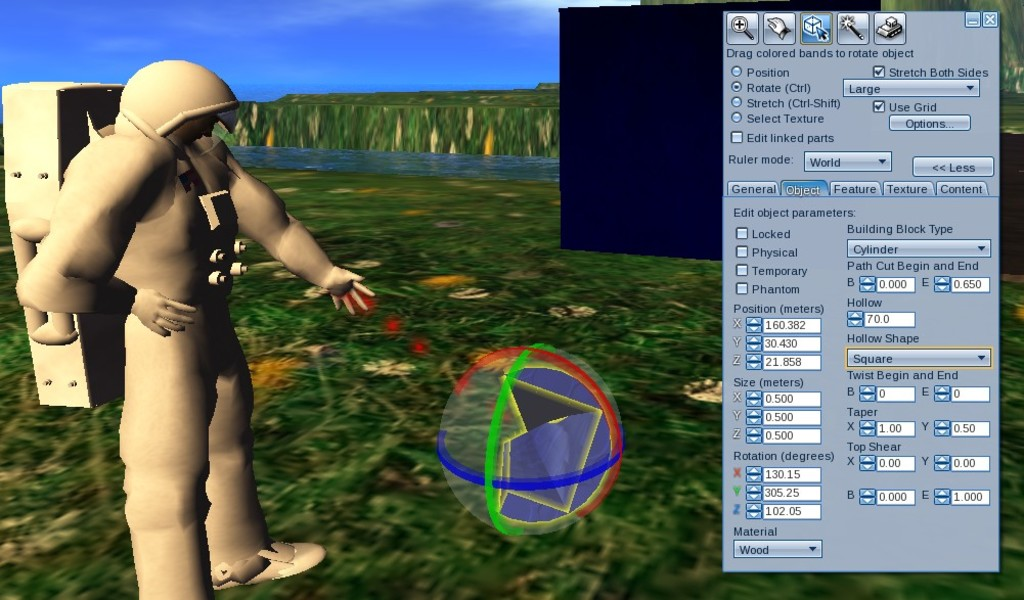Ball: (438, 343, 621, 535)
